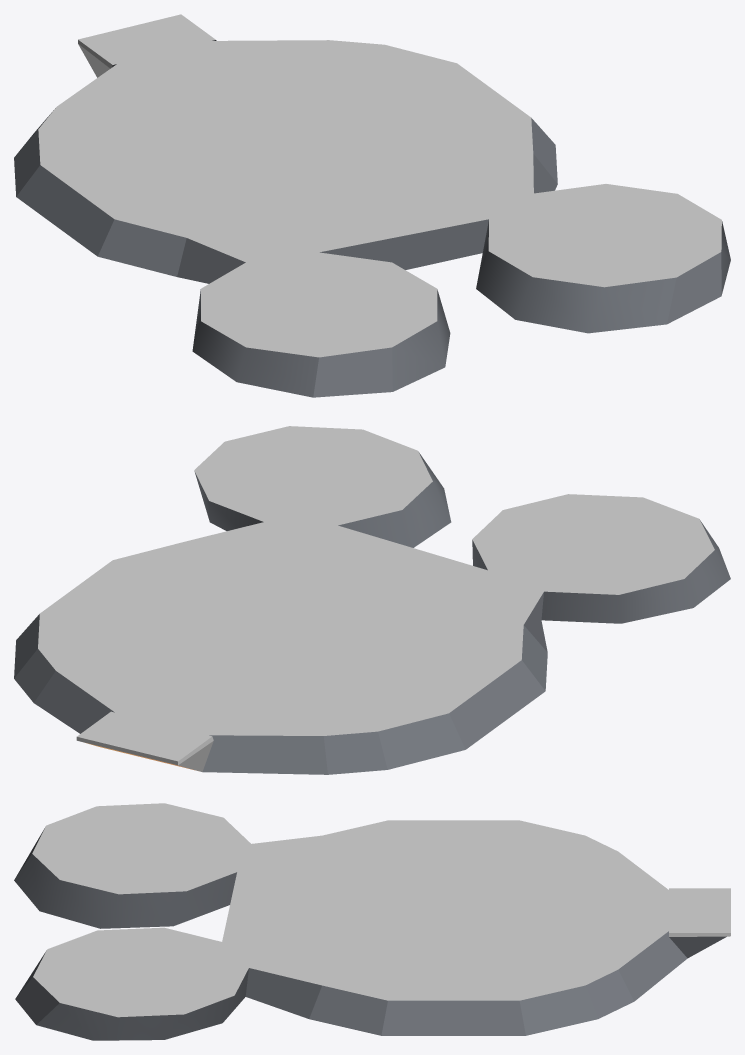
The model's file is levelend2 (3).fbx.
3 renders of one model, top to bottom at view 1: azimuth 30°, elevation 25°; view 2: azimuth 150°, elevation 25°; view 3: azimuth 270°, elevation 25°, orthographic. The views are drawn at different scales.
Visible parts, largest first — view 1: road.002; view 2: road.002; view 3: road.002.
Part boxes in pixels (x1=…): road.002: x1=14, y1=14, x2=730, y2=397; road.002: x1=14, y1=426, x2=730, y2=774; road.002: x1=14, y1=803, x2=730, y2=1040.
Size of the model in its own units: 31.29 by 2.24 by 43.52.
